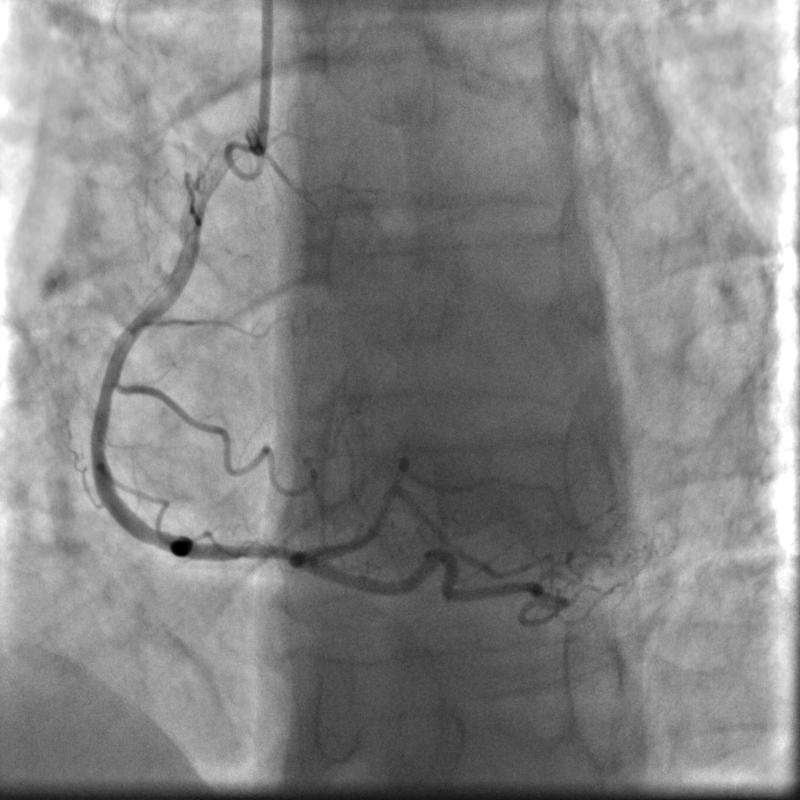Stenosis: (220, 528, 293, 576)
